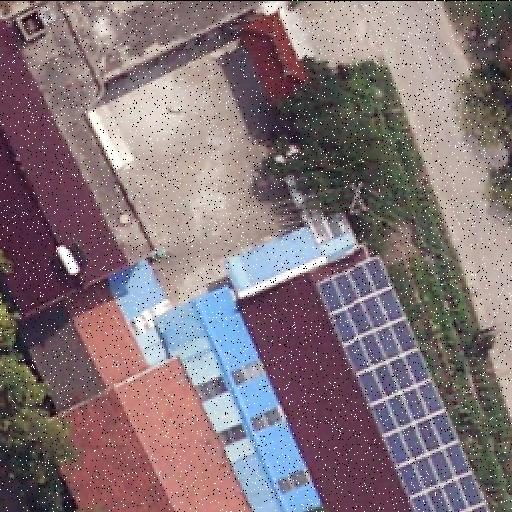solar-panel: (314, 256, 490, 512)
